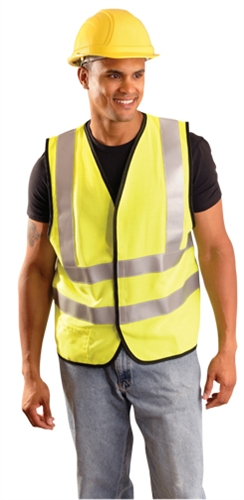Helmet: (58, 1, 175, 126)
Reflective vest: (40, 111, 205, 372)
